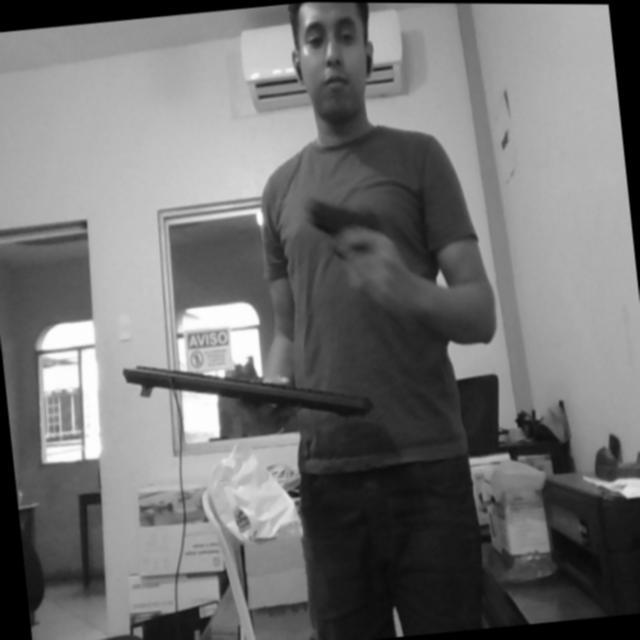weapon: (304, 188, 396, 285)
